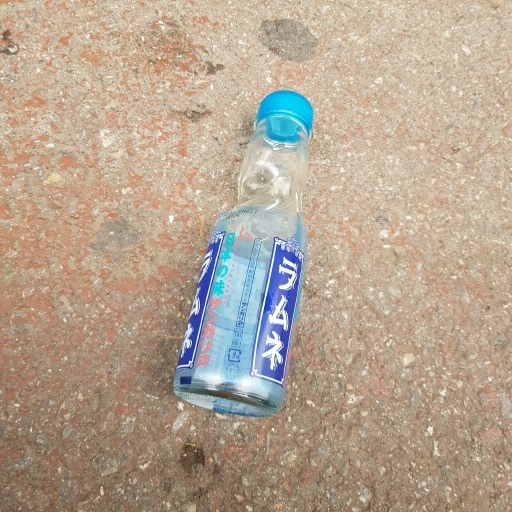Glass_4: (174, 90, 315, 423)
